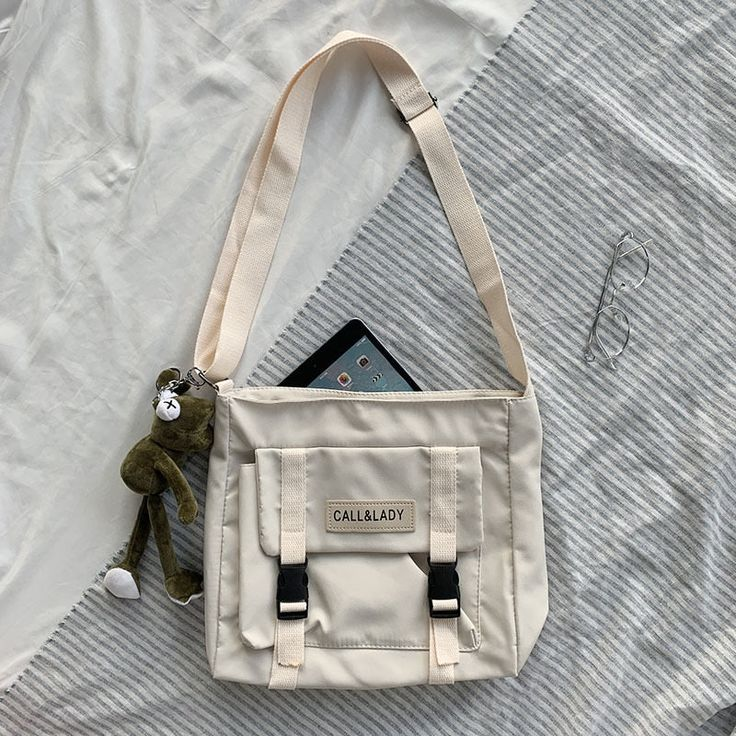nylon: (193, 30, 556, 691)
